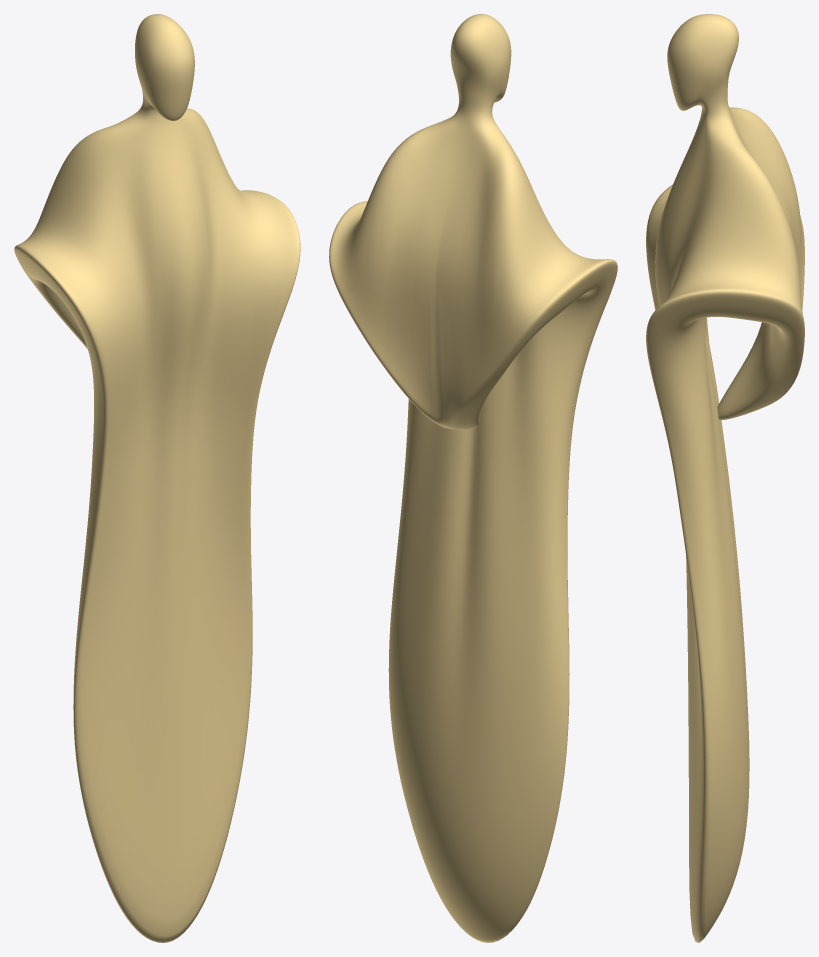
The model's file is presence.glb.
3 renders of one model, left to right at view 1: azimuth 30°, elevation 25°; view 2: azimuth 150°, elevation 25°; view 3: azimuth 270°, elevation 25°, orthographic.
Visible parts, largest first — view 1: Prezence001; view 2: Prezence001; view 3: Prezence001.
Part boxes in pixels (box(x1,y1,x2,y2)): Prezence001: box(14, 14, 300, 942); Prezence001: box(329, 14, 617, 942); Prezence001: box(646, 14, 804, 942).
Size of the model in its own units: 0.0107 by 0.0384 by 0.00597.
